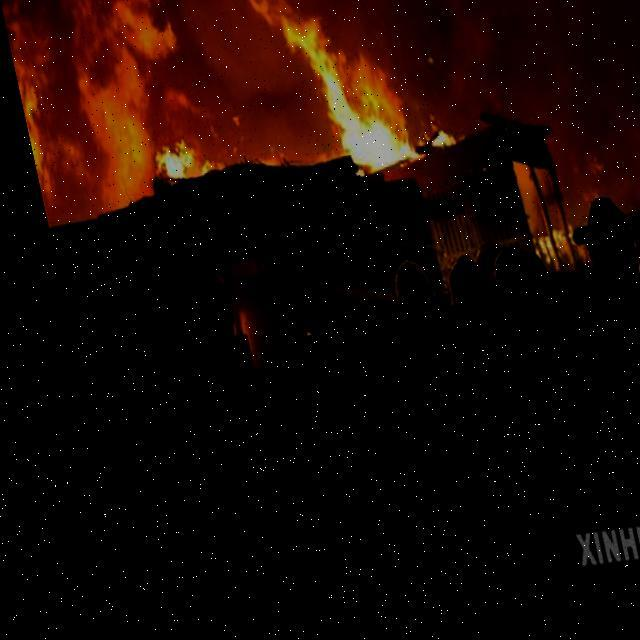Fire: (1, 0, 219, 216), (228, 0, 436, 184), (629, 223, 639, 392)
